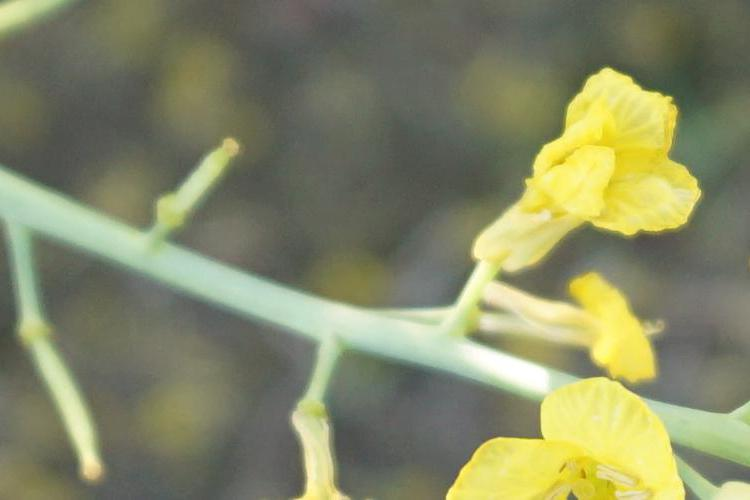yellow: (468, 85, 707, 273), (442, 388, 679, 500), (445, 274, 673, 382)
